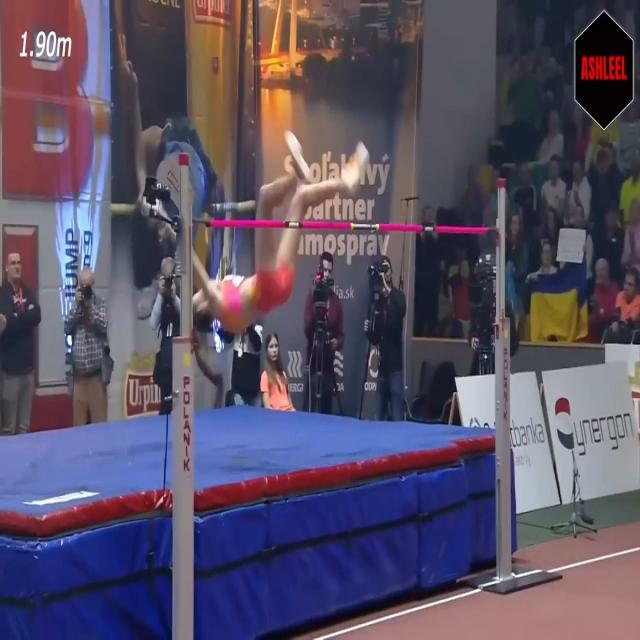land: (190, 126, 368, 334)
